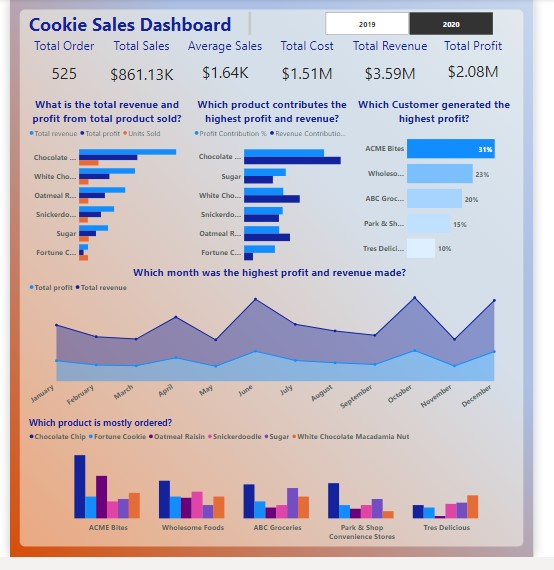

The dashboard page shown, as its layout file describes it:
{"tool":"powerbi","page":{"name":"Page 1","canvas":[1550,1650],"ordinal":0},"visuals":[{"type":"card","title":"Total Order ","fields":{"Values":["Calculated.No of orders"]},"box":[33.3,112.1,254.5,160.6],"z":0},{"type":"card","title":"Total Cost","fields":{"Values":["Calculated.Total cost"]},"box":[752.2,112.4,254.3,159.7],"z":1000},{"type":"card","title":"Total Sales","fields":{"Values":["Calculated.Total of sales"]},"box":[259.6,112.4,257.2,165.6],"z":2000},{"type":"card","title":"Average Sales ","fields":{"Values":["Calculated.Average sales"]},"box":[507.4,112.4,254.3,156.7],"z":3000},{"type":"card","title":"Total Revenue","fields":{"Values":["Calculated.Total revenue"]},"box":[997.1,112.4,254.3,159.7],"z":4000},{"type":"card","title":"Total Profit","fields":{"Values":["Calculated.Total profit"]},"box":[1241.9,112.4,254.3,150.8],"z":5000},{"type":"clusteredBarChart","fields":{"Category":["Customers.Name"]},"box":[1073.4,1194.6,455.4,455.4],"z":6000},{"type":"clusteredBarChart","title":"What is the total revenue and profit from total product sold?","fields":{"Y":["Calculated.Total revenue","Calculated.Total profit","Orders.Units Sold"],"Category":["Orders.Product"]},"box":[50.3,289.8,473.1,511.6],"z":7000},{"type":"clusteredBarChart","title":"Which product contributes the highest profit and revenue?","fields":{"Y":["Calculated.Profit Contribution %","Calculated.Revenue Contribution %"],"Category":["Orders.Product"]},"box":[536.7,289.8,473.1,511.6],"z":8000},{"type":"stackedAreaChart","title":"Which month was the highest profit and revenue made? ","fields":{"Category":["Calculated.Month"],"Y":["Calculated.Total profit","Calculated.Total revenue"]},"box":[50.3,786.5,1434.1,449.5],"z":9000},{"type":"clusteredColumnChart","title":"Which product is mostly ordered?","fields":{"Category":["Customers.Name"],"Series":["Cookie Types.Cookie Type"],"Y":["Orders.Product"]},"box":[50.3,1233.1,1446,378.5],"z":10000},{"type":"clusteredBarChart","title":"Which Customer generated the highest profit?","fields":{"Y":["Calculated.Total profit"],"Category":["Customers.Name"]},"box":[1023.1,289.8,461.3,511.6],"z":11000},{"type":"textbox","box":[50.3,32.5,668.3,79.8],"z":12000},{"type":"slicer","fields":{"Values":["Calculated.Year"]},"box":[907.8,32.5,544.1,79.8],"z":13000}]}

Visuals, with their boxes in screenshot pixels (x1, y1, x2, y2):
"Total Order " card: left=4, top=49, right=87, bottom=101
"Total Cost" card: left=240, top=49, right=323, bottom=101
"Total Sales" card: left=78, top=49, right=162, bottom=103
"Average Sales " card: left=159, top=49, right=243, bottom=100
"Total Revenue" card: left=320, top=49, right=404, bottom=101
"Total Profit" card: left=401, top=49, right=484, bottom=98
clusteredBarChart - Customers.Name: left=345, top=404, right=495, bottom=554
"What is the total revenue and profit from total product sold?" clusteredBarChart: left=9, top=107, right=165, bottom=275
"Which product contributes the highest profit and revenue?" clusteredBarChart: left=169, top=107, right=324, bottom=275
"Which month was the highest profit and revenue made? " stackedAreaChart: left=9, top=270, right=480, bottom=418
"Which product is mostly ordered?" clusteredColumnChart: left=9, top=417, right=484, bottom=541
"Which Customer generated the highest profit?" clusteredBarChart: left=329, top=107, right=480, bottom=275
textbox: left=9, top=23, right=229, bottom=49
slicer - Calculated.Year: left=291, top=23, right=470, bottom=49
